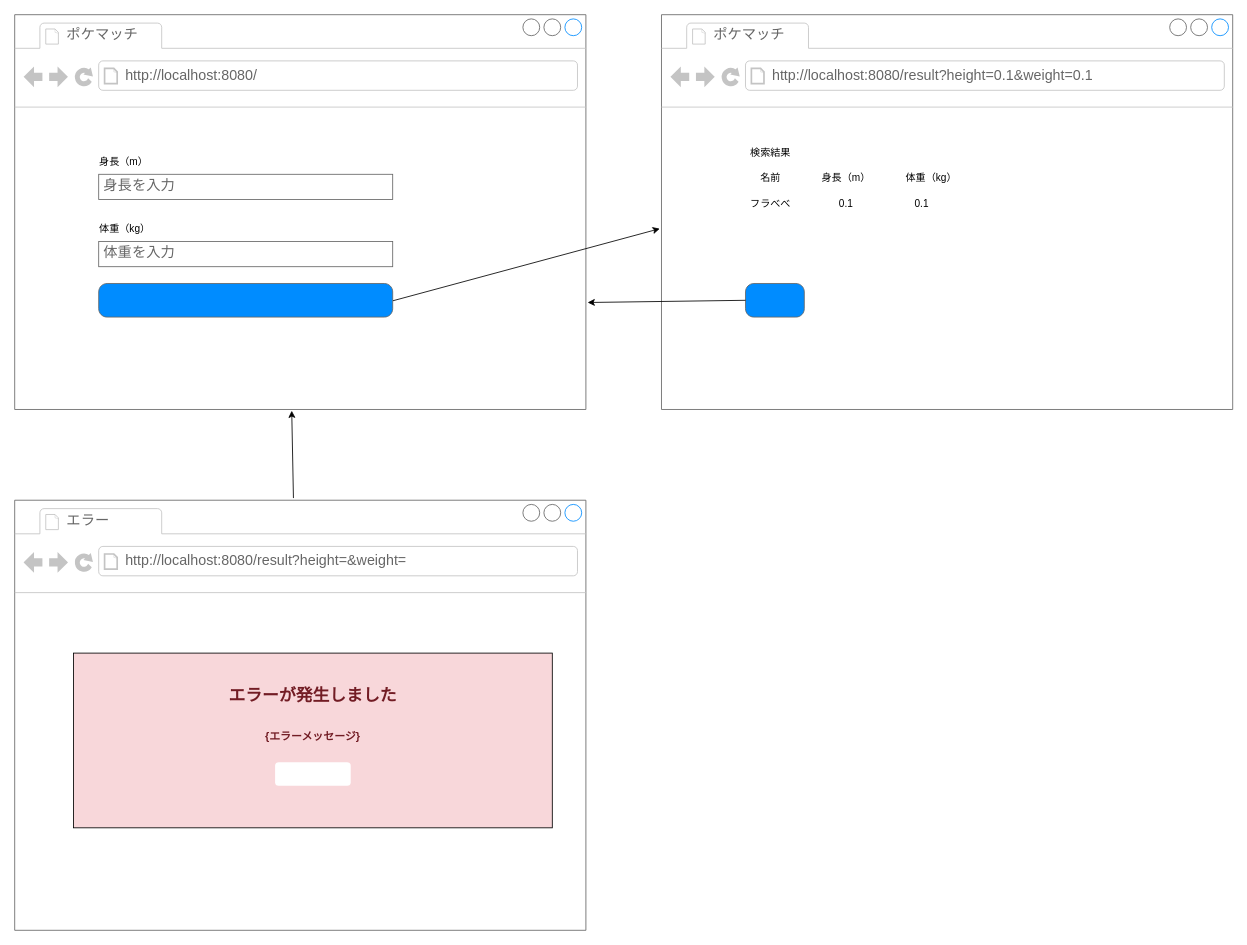
This 1247x945 diagram has some shape labels left out. Here are the shapes that lost their labels. From the top down, the centre of each, then its label:
(245,300): 検索
(774,300): 戻る
(312,773): ホームに戻る
